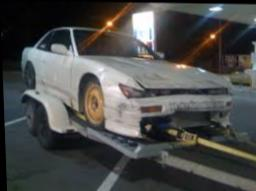Bonnet: (136, 65, 225, 88), (111, 61, 164, 90)
Bumper: (130, 99, 235, 143), (100, 84, 128, 136)
Fender: (71, 58, 118, 91)
